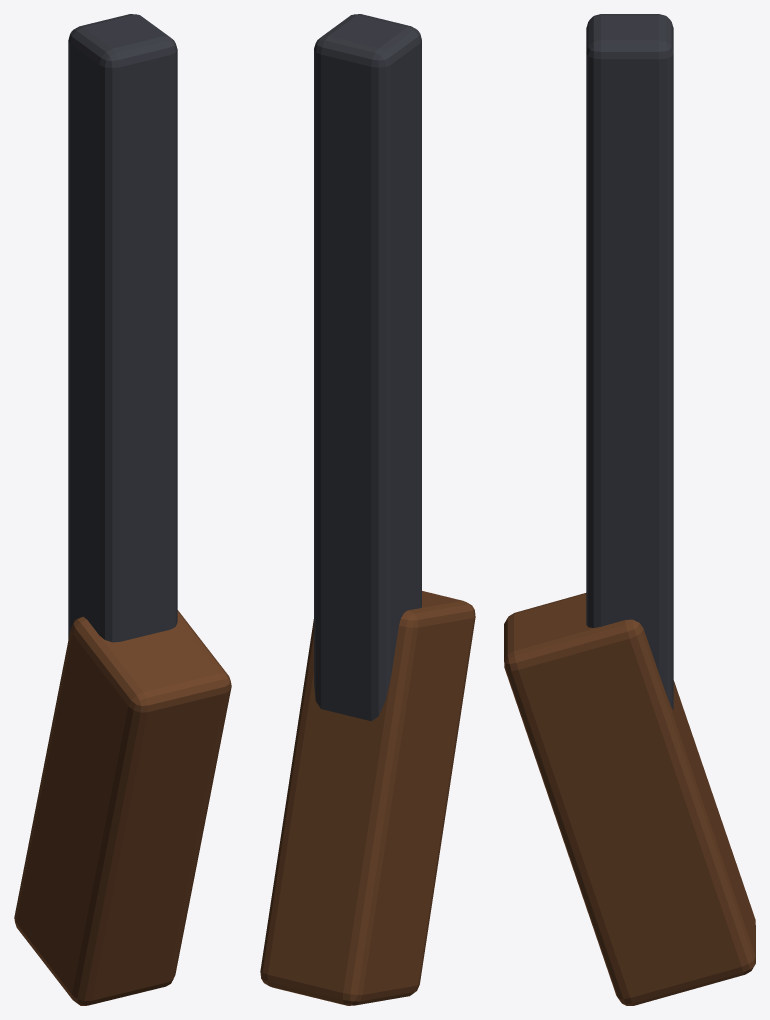
Rendered from pistol.glb.
3 views of the same model, side by side, from view 1: azimuth 30°, elevation 25°; view 2: azimuth 150°, elevation 25°; view 3: azimuth 270°, elevation 25° (orthographic).
Parts seen in each view (by area): view 1: pistol; view 2: pistol; view 3: pistol.
Boxes of the visible parts, bbox=[...] form: pistol: bbox=[14, 14, 231, 1005]; pistol: bbox=[260, 14, 475, 1005]; pistol: bbox=[504, 14, 755, 1005].
Bounding box in the file's own units: 0.04 × 0.3629 × 0.0864.
